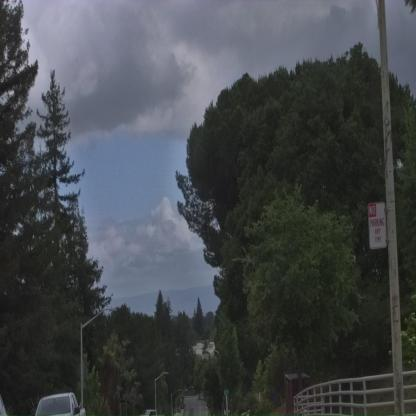car: (32, 391, 86, 416)
